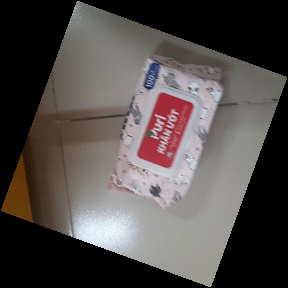Puri hong: (102, 54, 226, 210)
